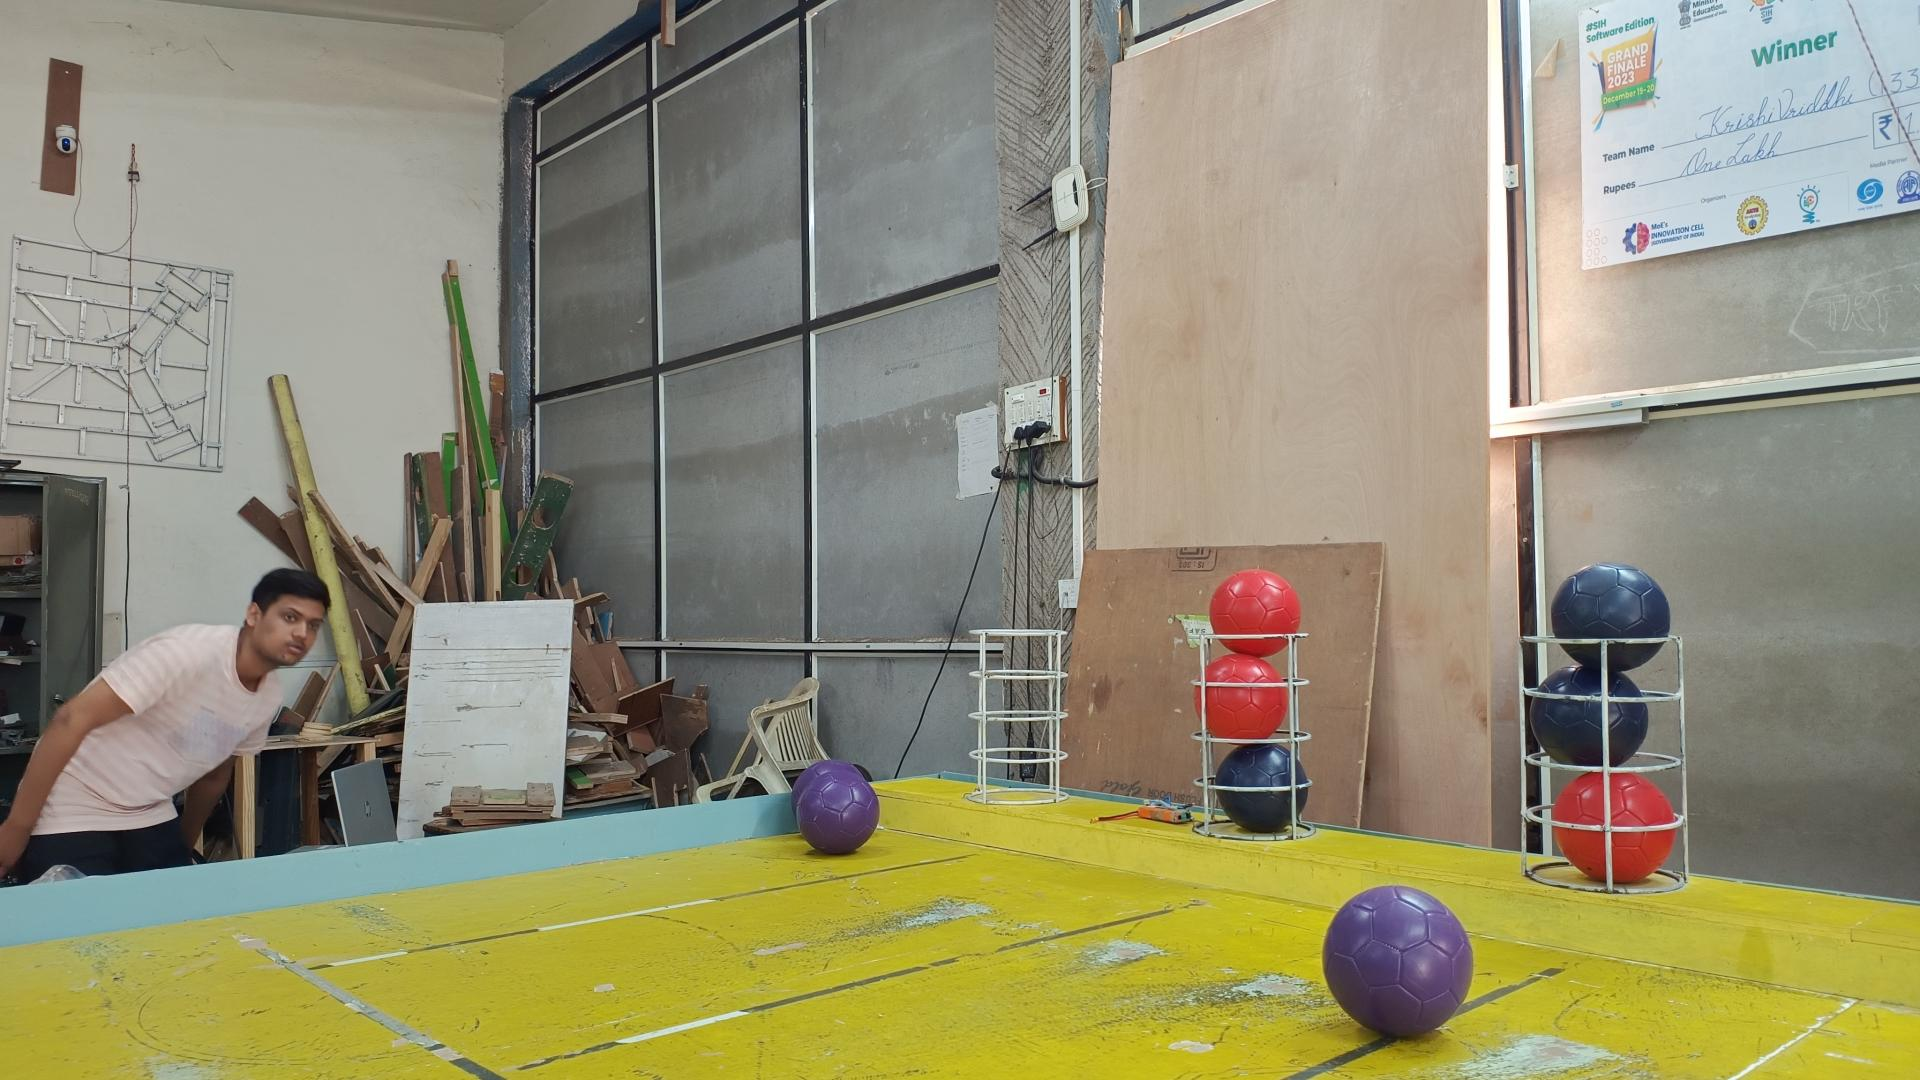dhoka: (1551, 563, 1671, 671), (1528, 662, 1648, 767), (1217, 742, 1311, 832)
laale: (1552, 773, 1680, 885), (1209, 570, 1303, 657), (1193, 653, 1287, 738)
